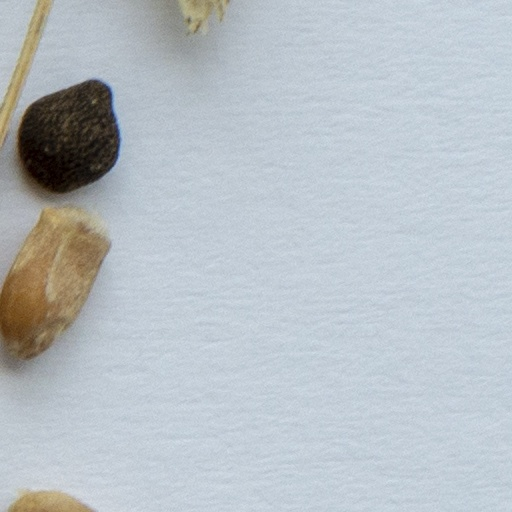Wheat-grain-damaged-poly: (0, 202, 112, 369)
